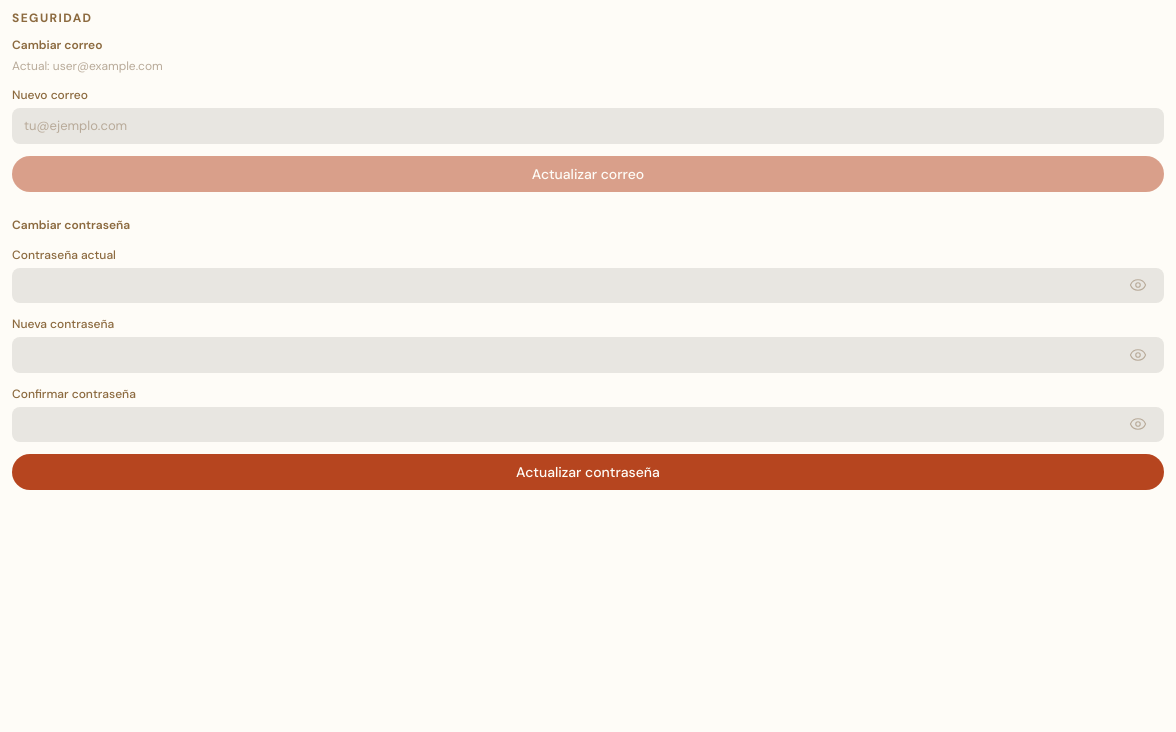
Test: SecurityForm › email success shows confirmation message
The image size is (1176, 732).
Type "new@example.com" into the field labelled "Nuevo correo" at (588,126), box [12,108,1164,144]
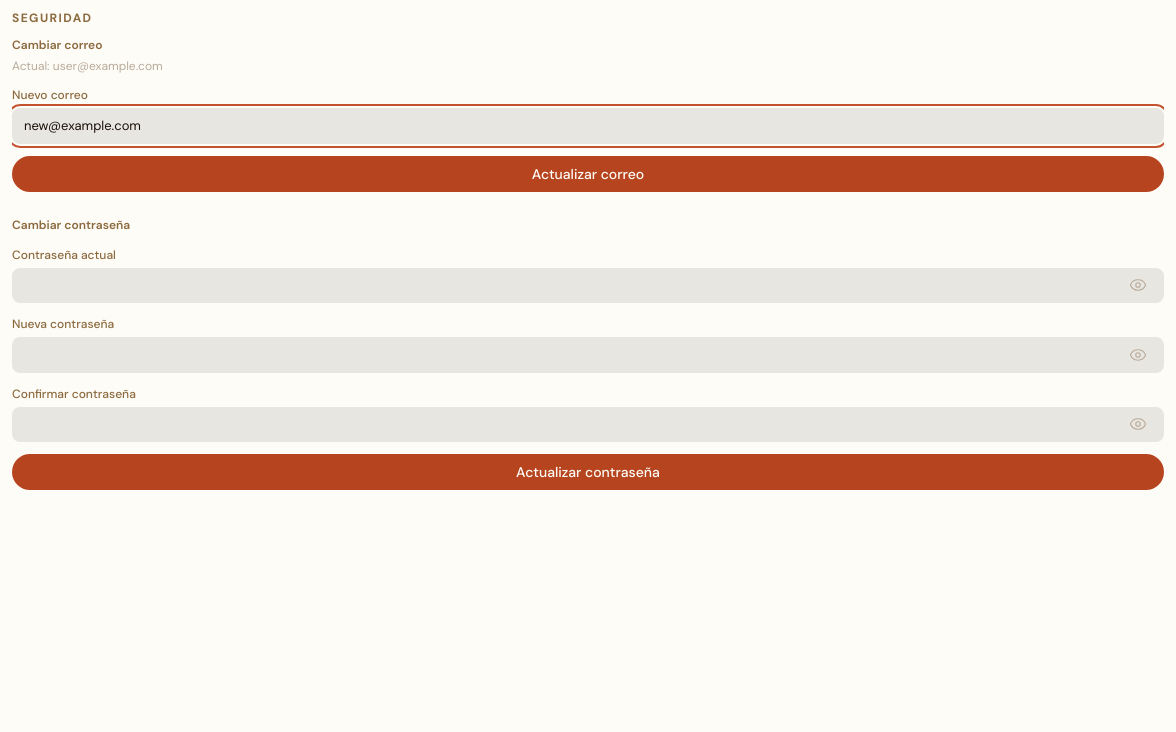
Click the button "Actualizar correo" at (588,174), box [12,156,1164,192]
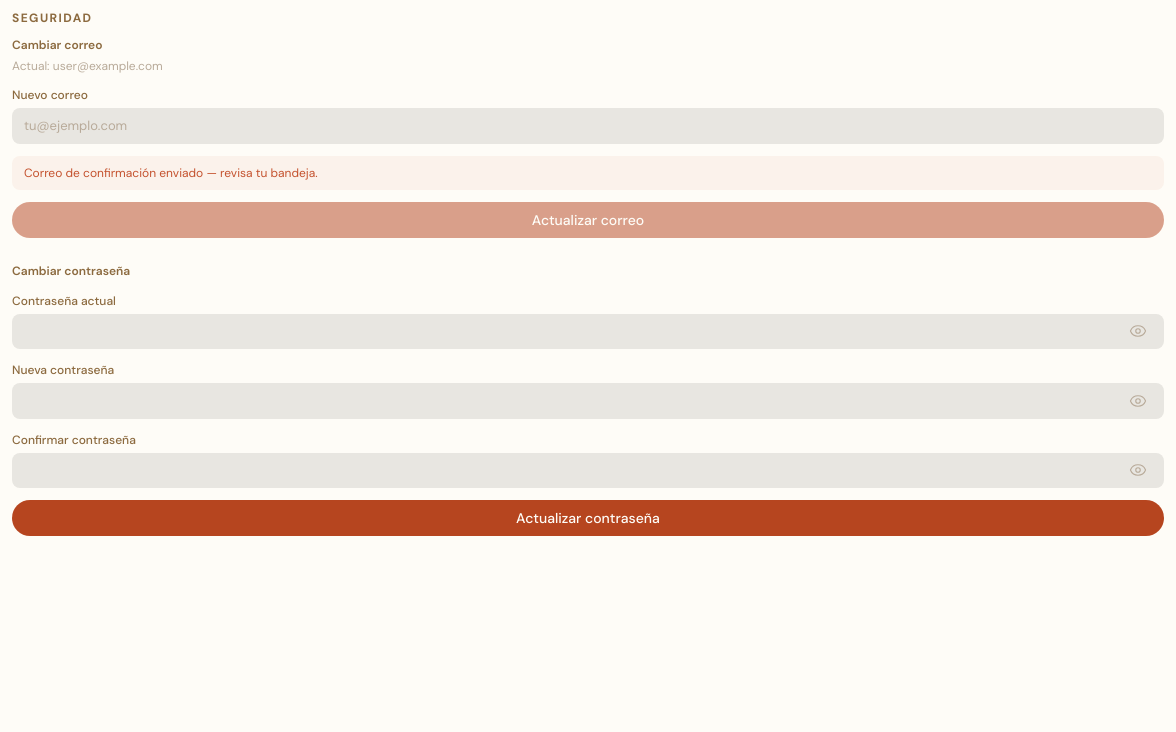
Check: the text "Correo de confirmación enviado — revisa tu bandeja." is shown, box [12,156,1164,190]
